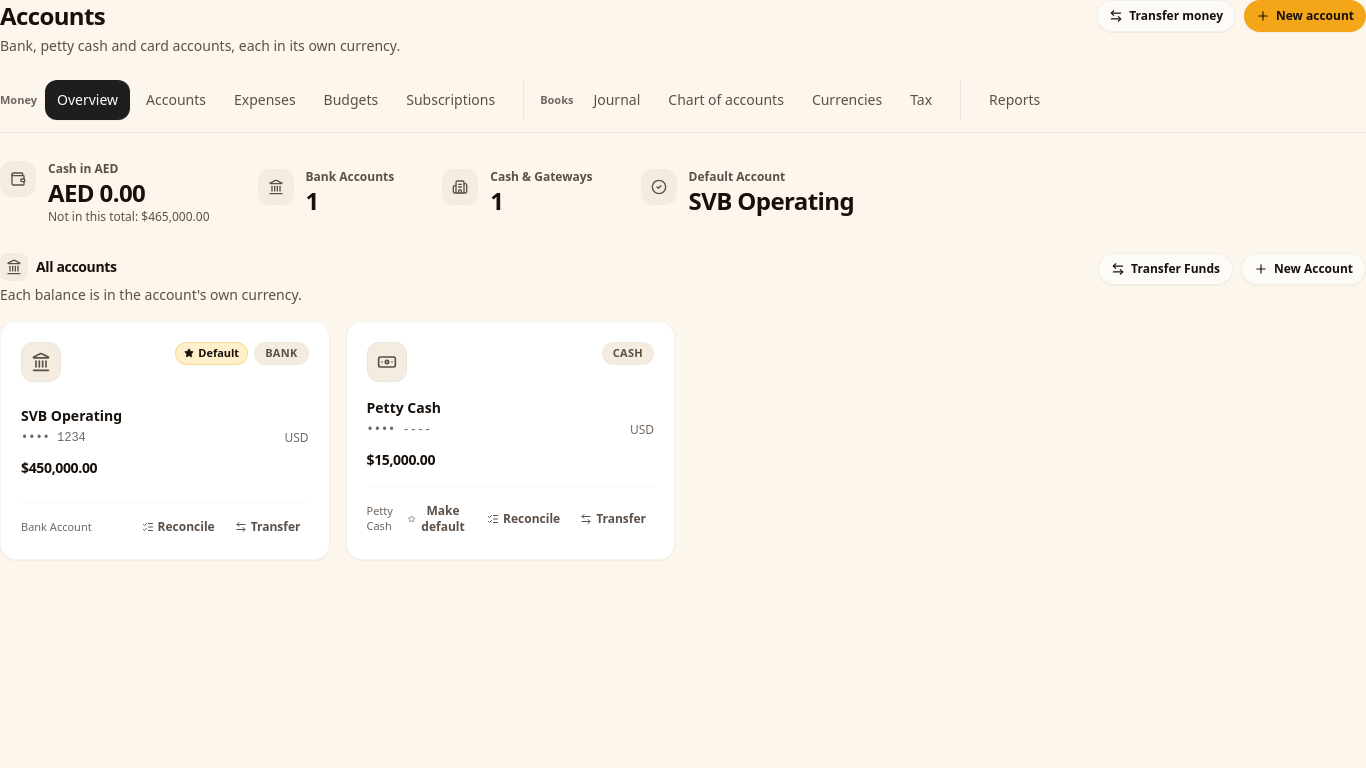
Test case: Finance Routes & Views Suite › AccountsView (/finance/accounts) › opens create account modal when clicking new account
This screenshot has width=1366, height=768.
Click the button with test id "accounts-new-account-btn" at (1305, 16), box 1244,0 -> 1365,32
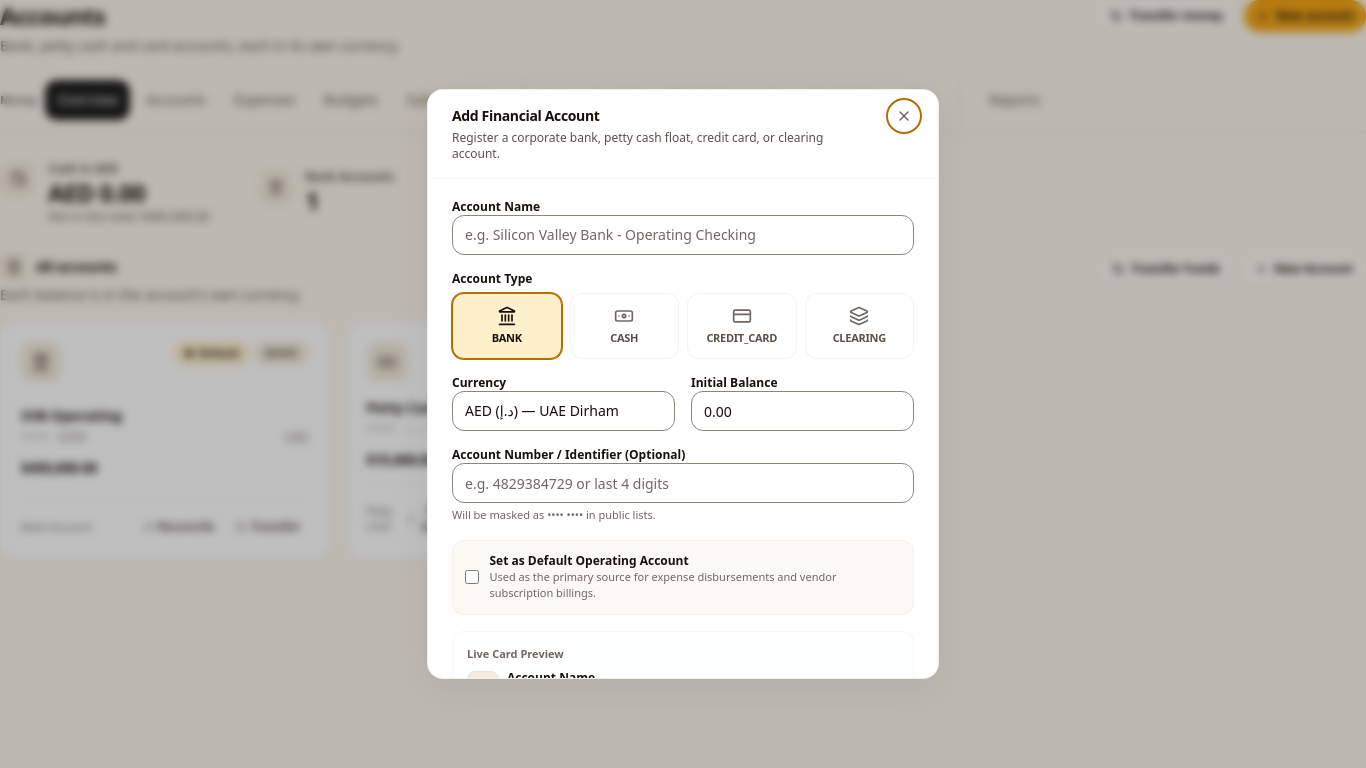
expect the heading "Add Financial Account" is shown: met, box 452,106 -> 600,125
